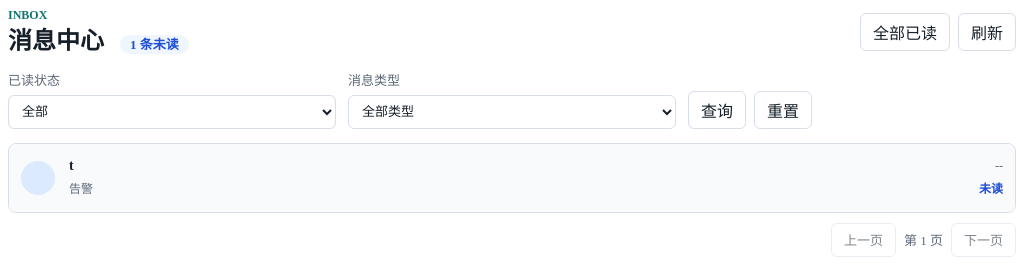
Test: MessageCenterView › marks all messages read via the toolbar button
Click the button with test id "messages-mark-all-read": [905, 32] box [860,13,950,51]
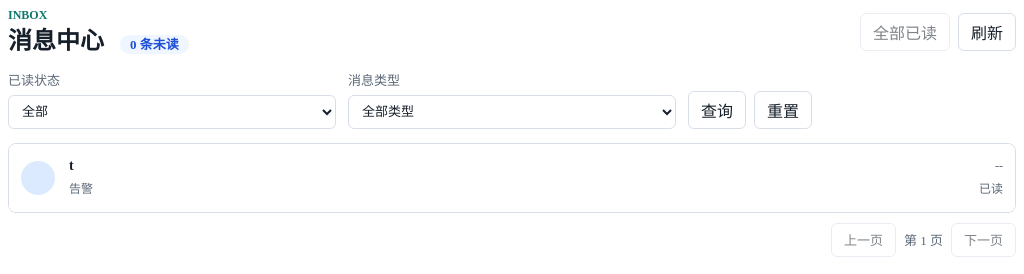
Result: the text with test id "unread-count" reads "0 条未读" at [130,37,179,52]
